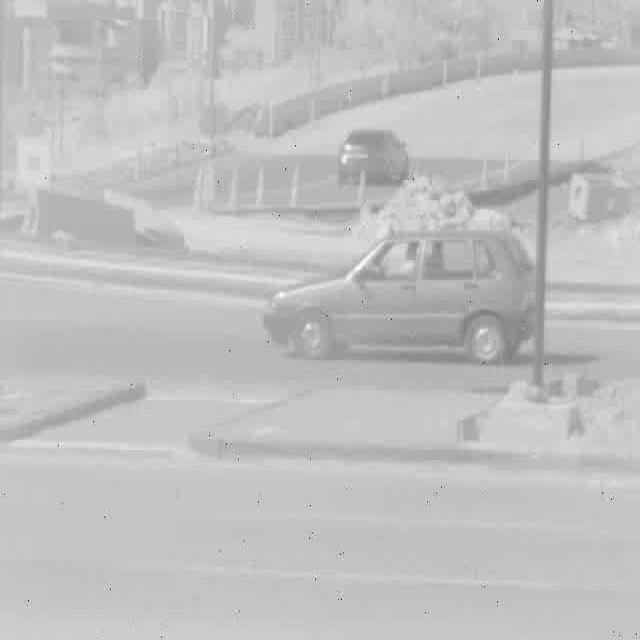Car: (264, 234, 535, 361), (342, 132, 411, 186)
